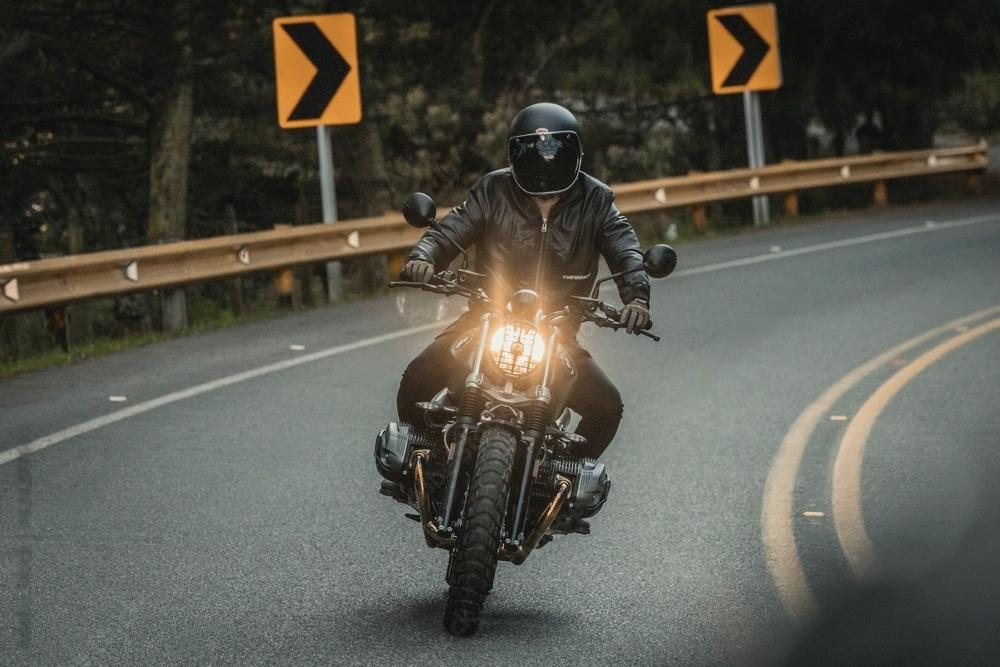helmet: (505, 100, 585, 201)
